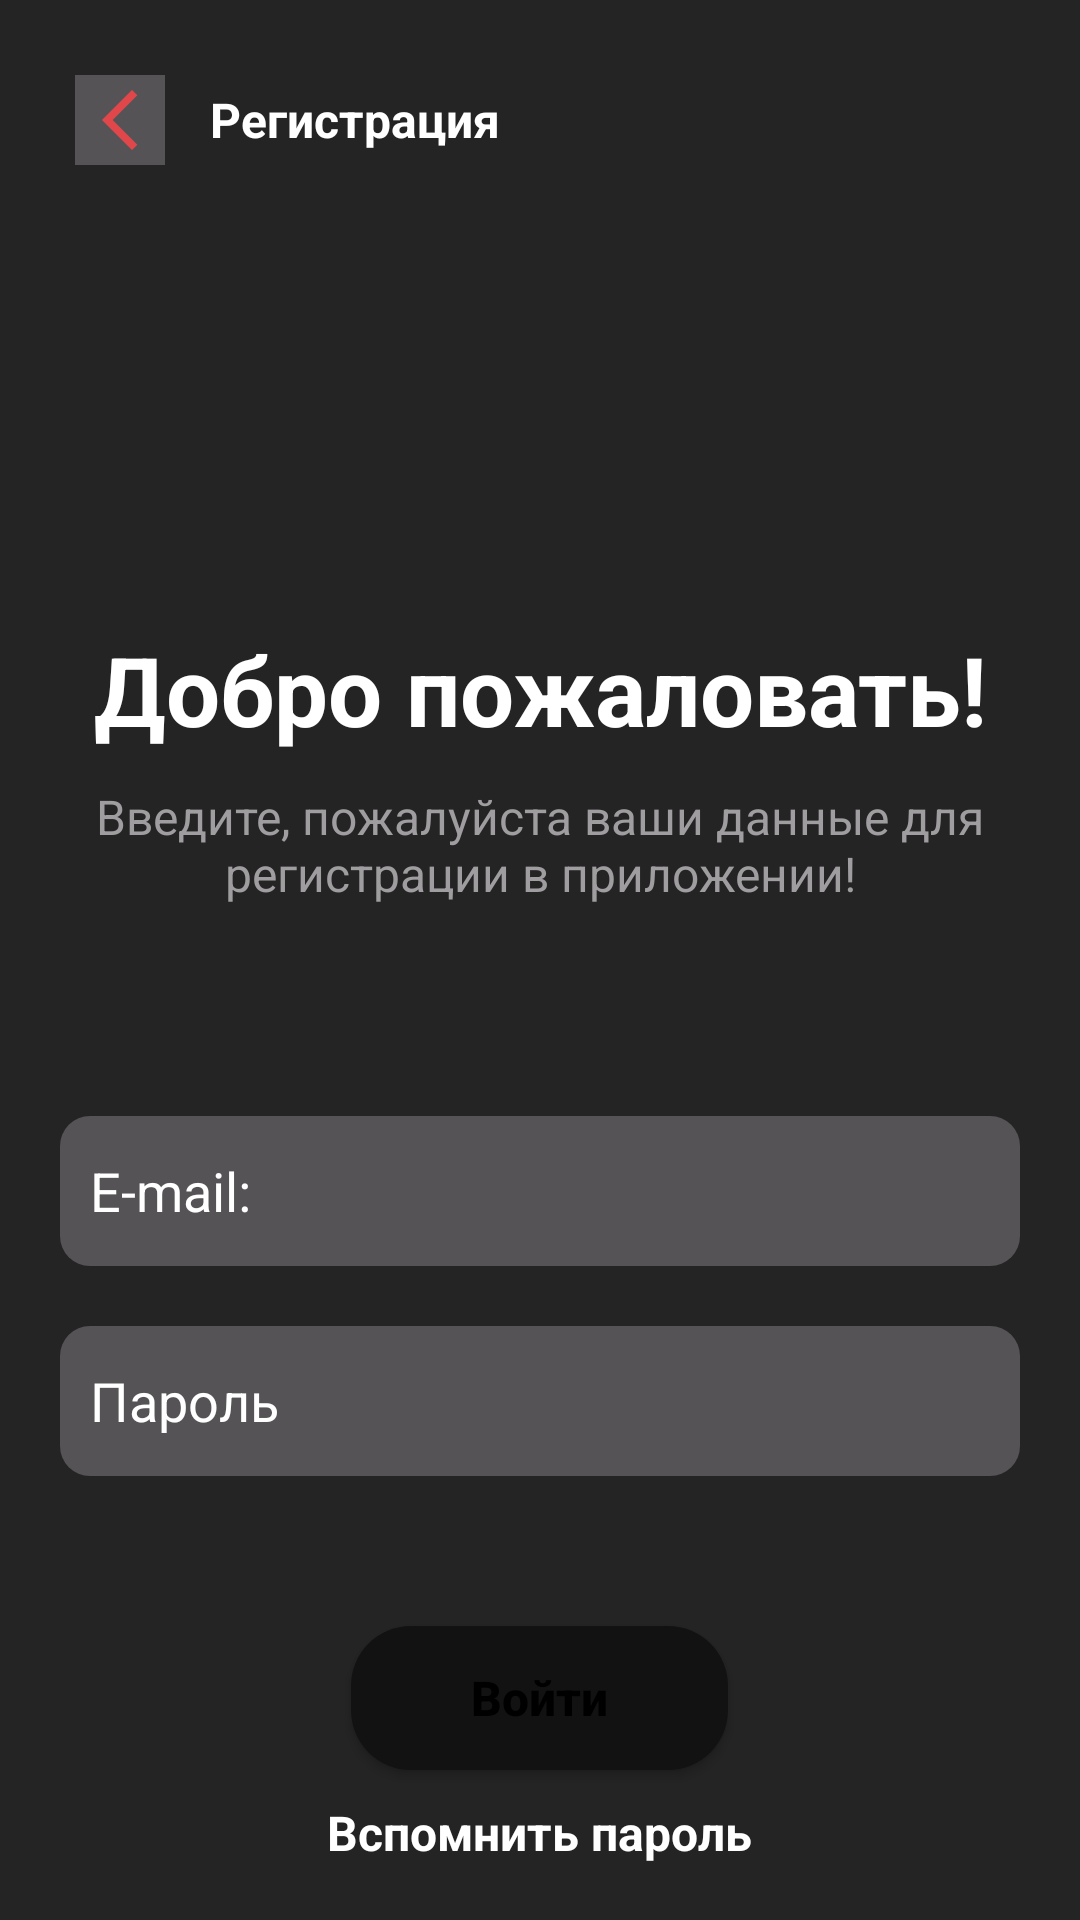

Icons on this 1080x1920 Android screen, each with its box as box=[x1, y1, x2, y2]:
prev: box=[75, 75, 165, 165]
